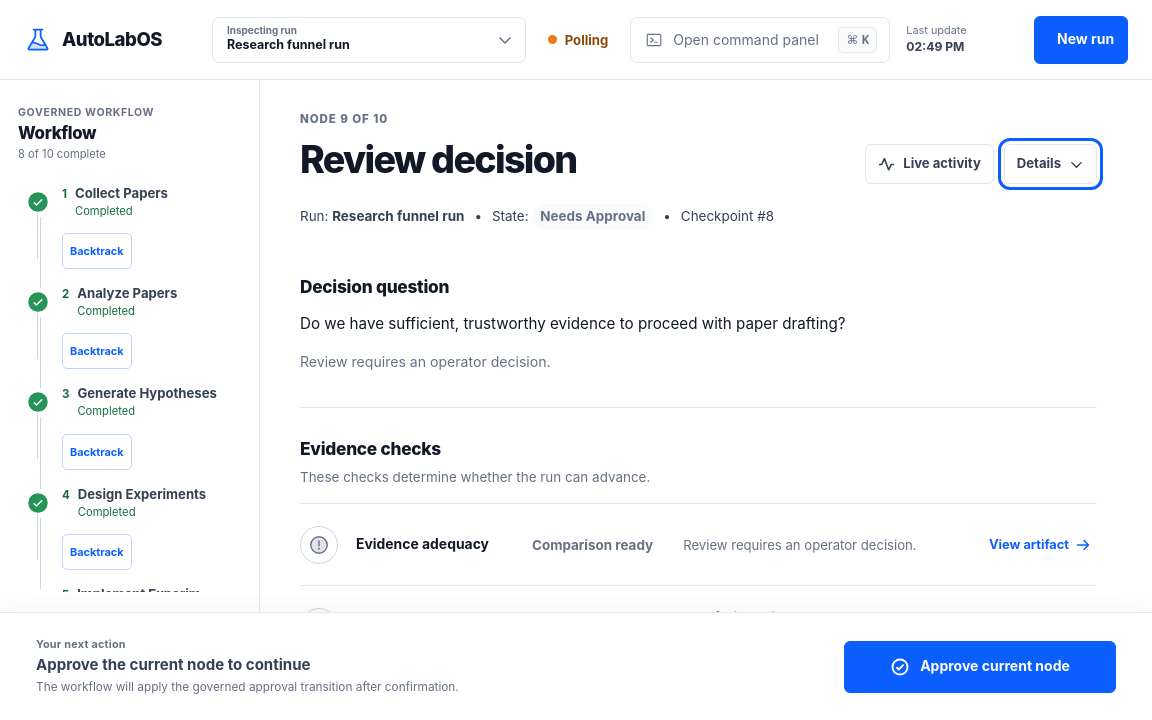
Test case: App › renders baseline evidence readiness separately from workflow readiness
Click the button "Details" at (1050, 164), box [1004,144,1097,184]
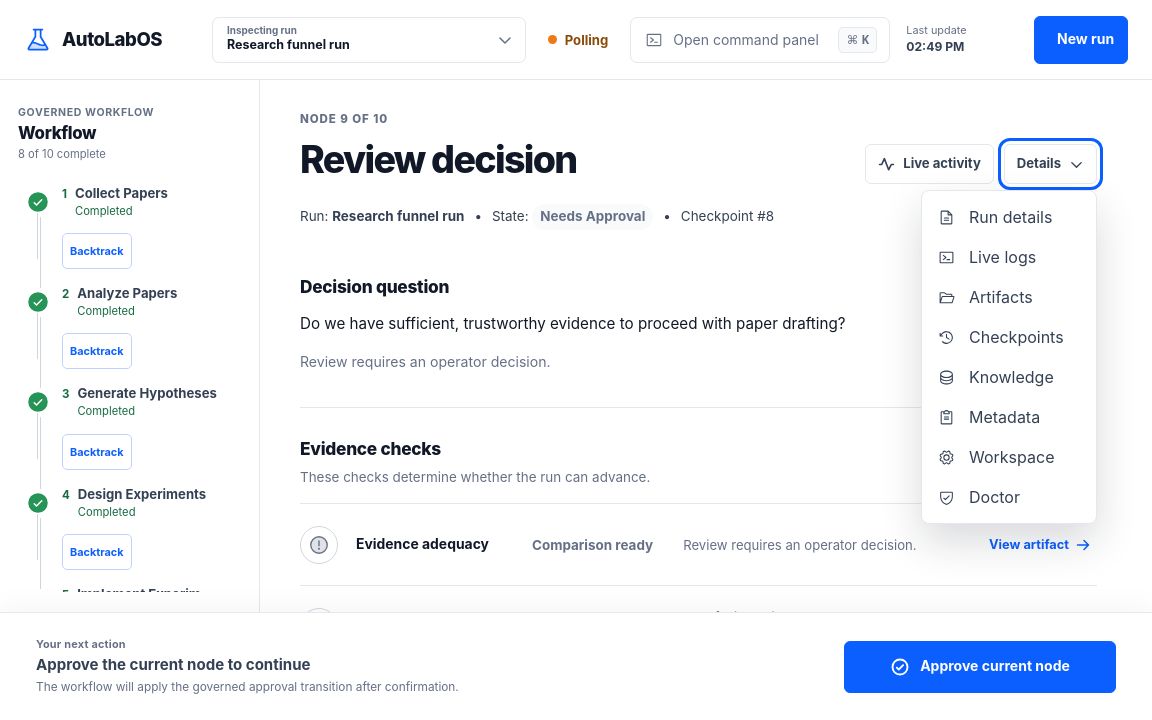
Click the button "Run details" at (1009, 217), box [928,197,1090,237]
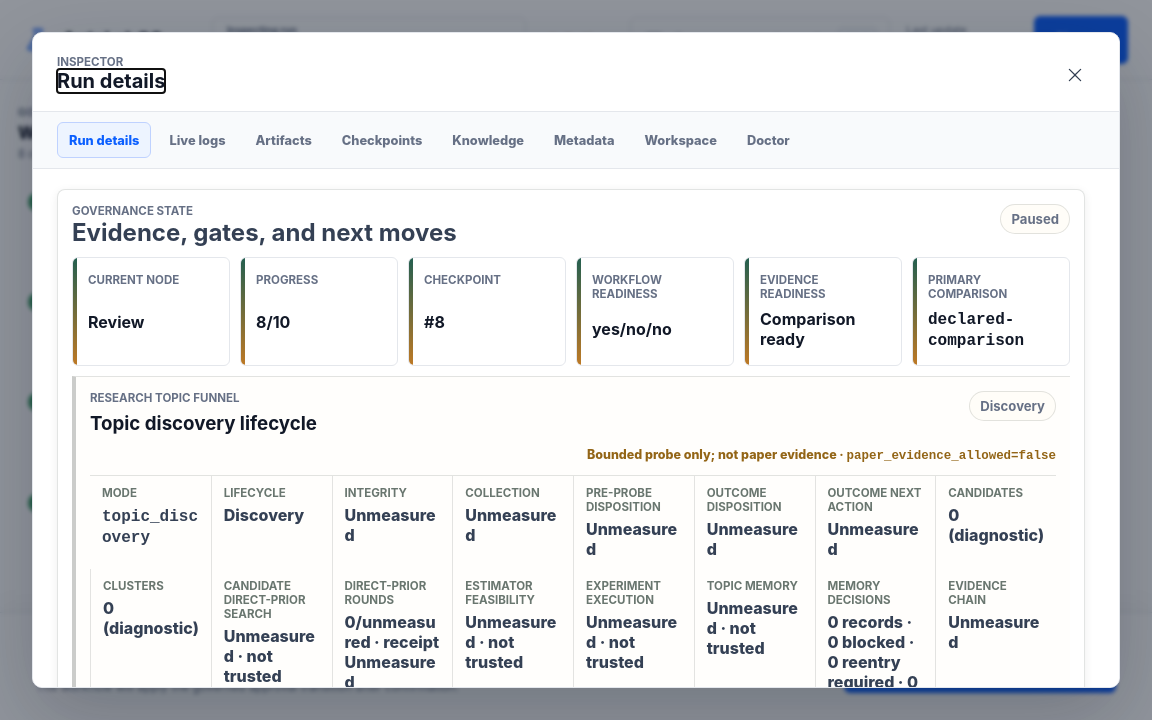
Now the text "Workflow readiness" is shown, box [592,273,662,301]
Now the text "Evidence readiness" is shown, box [760,273,826,301]
Now the text "Comparison ready" is shown, box [760,309,855,349]
